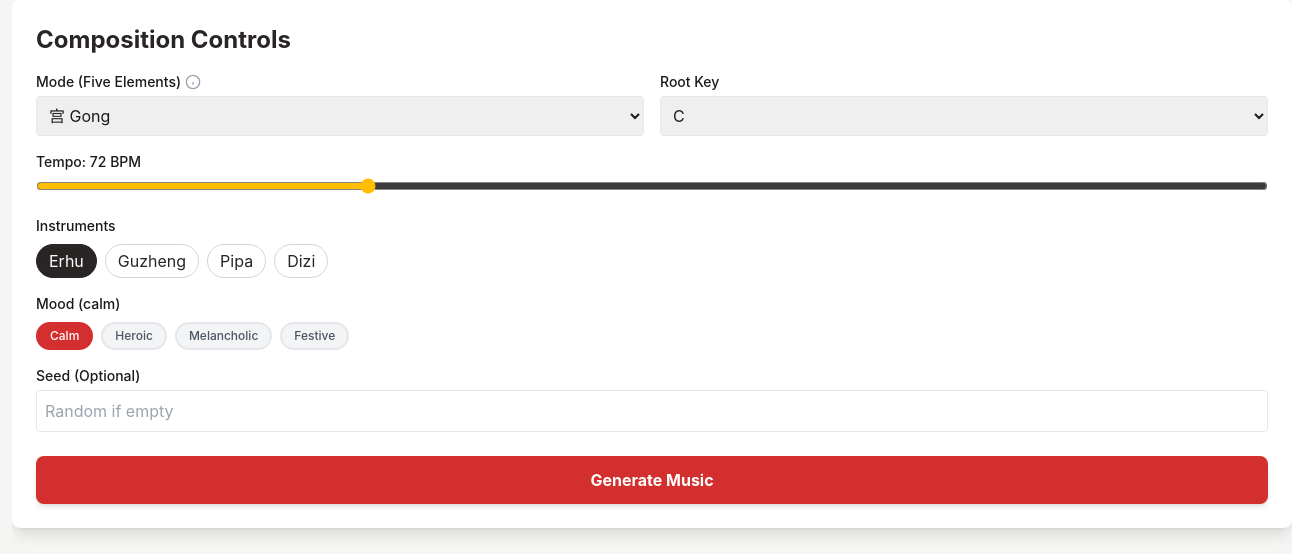
Test: ControlPanel › disables generate button when no instruments selected
The width and height of the screenshot is (1292, 554).
# Erhu is selected by default, deselect it
Click the button "Erhu": (66, 261) 36,244 -> 97,278
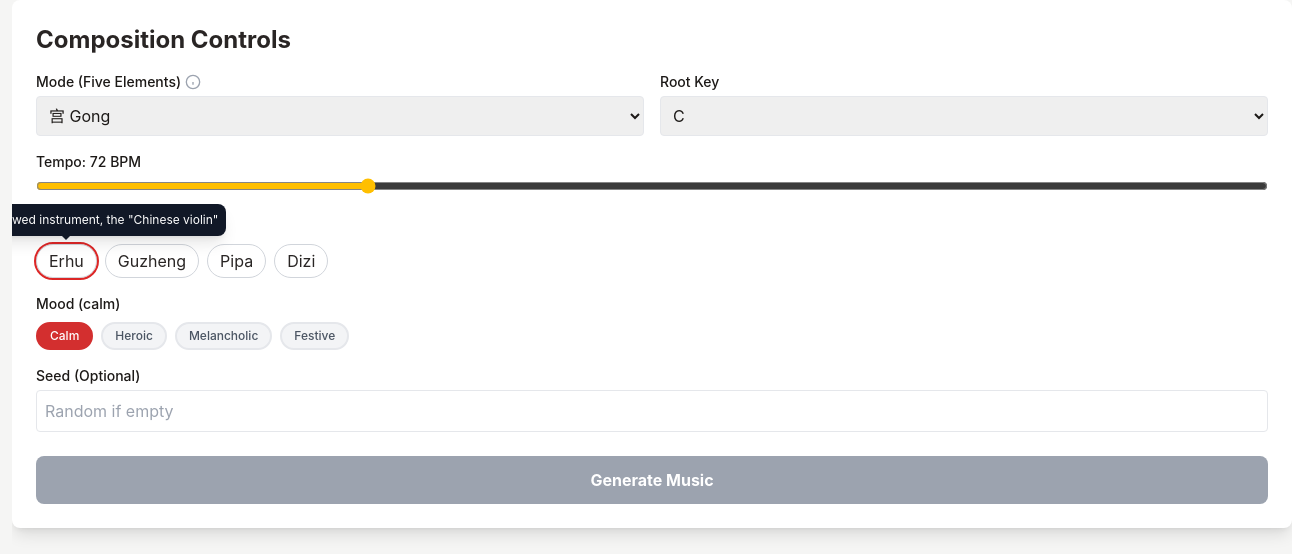
Result: the button "Generate Music" is disabled at 36,456 -> 1268,504
